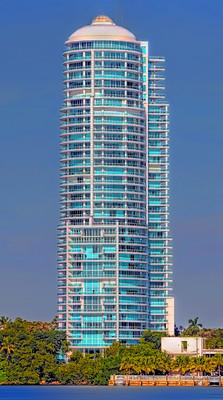building: (60, 14, 176, 358)
